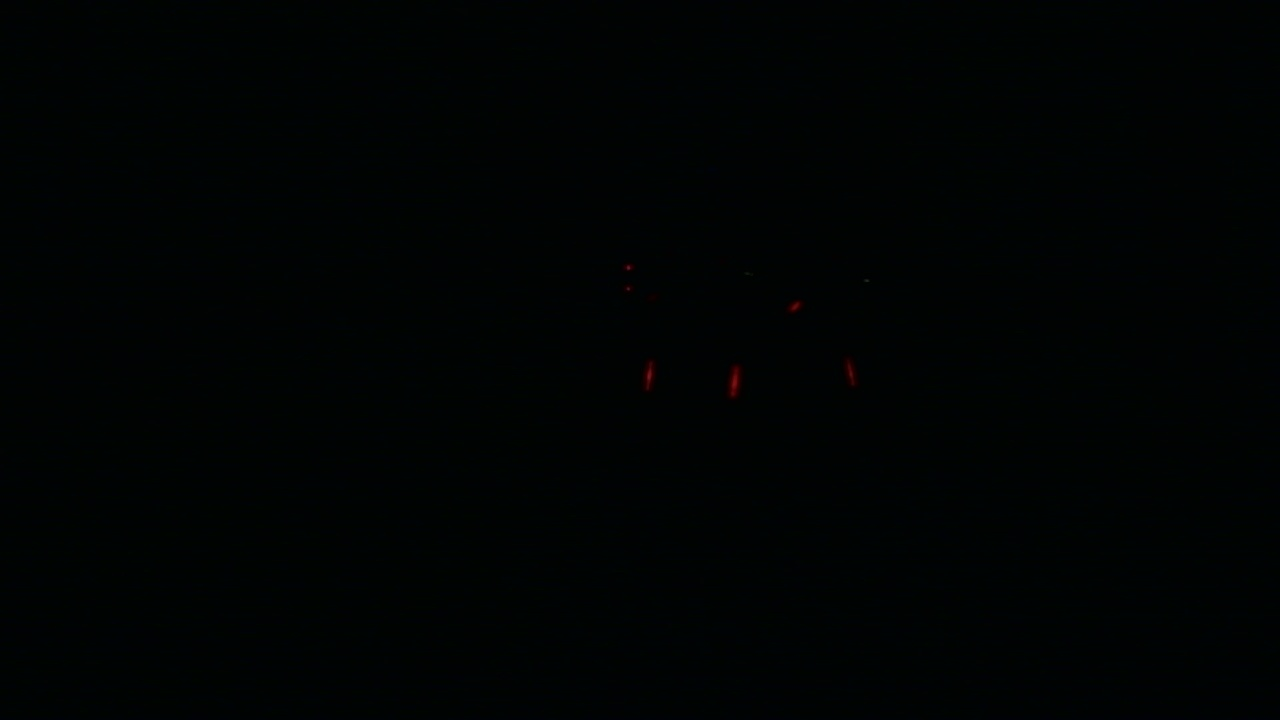lamp: (721, 357, 742, 399), (640, 359, 651, 401), (845, 357, 859, 390)
notpair1: (722, 359, 860, 397)
pair1: (641, 360, 742, 401)
